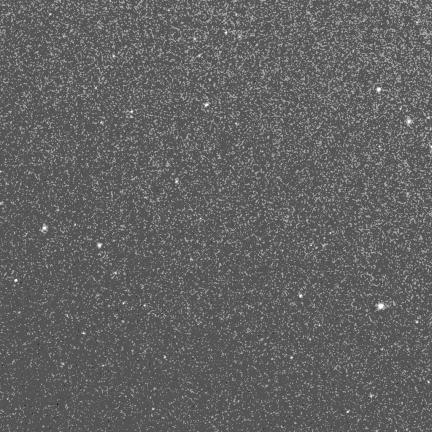blob: (378, 303, 384, 309), (407, 118, 412, 124), (42, 224, 47, 230), (377, 87, 381, 92), (98, 243, 102, 248), (205, 103, 209, 107), (290, 356, 294, 360), (225, 31, 228, 36), (175, 178, 178, 183), (416, 320, 419, 324), (299, 294, 302, 298), (164, 356, 167, 360), (152, 408, 155, 411), (14, 279, 17, 282)
